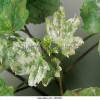Squash Powdery mildew leaf: (44, 4, 87, 56), (9, 37, 48, 88)
